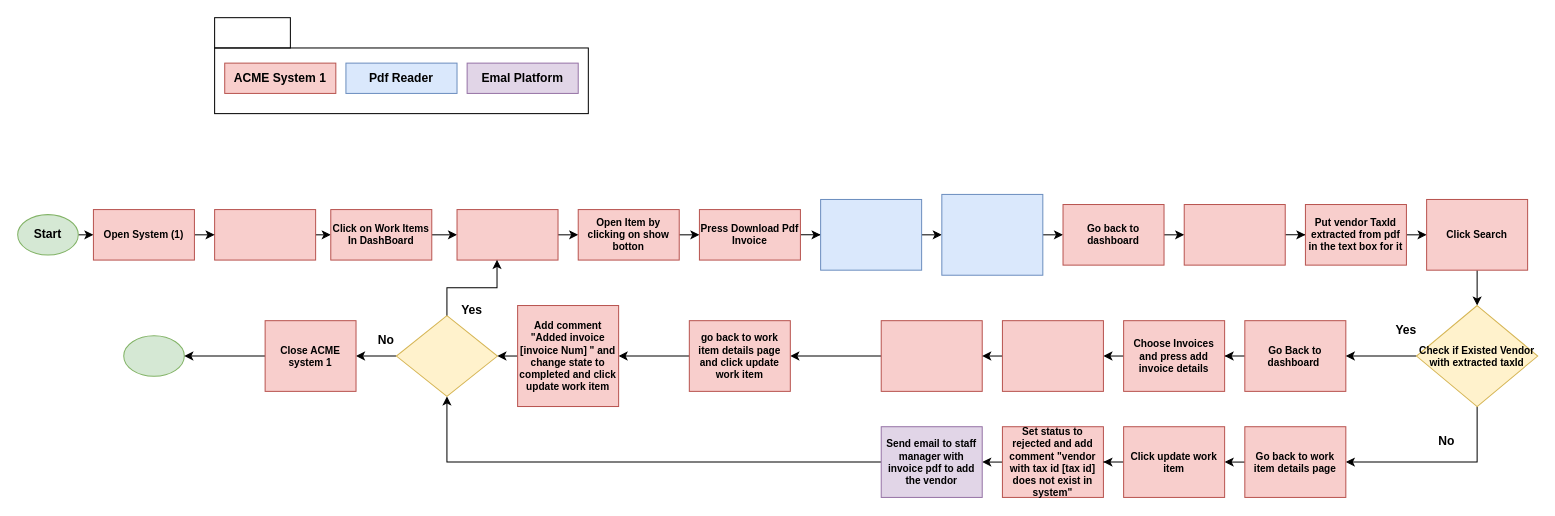
The diagram is 1555 pixels wide and 516 high, and some of its shapes have lost their labels. The centre of each missing label's shape, as x and y in pixels:
"Check for WI3 type work items exsisted ?" goes at pixel 446 355.
"Choose Vendors click search for vendors" goes at pixel 1234 234.
"Color Map" goes at pixel 252 32.
"End" goes at pixel 153 355.
"Extract All Information from Pdf and close pdf reader" goes at pixel 992 234.
"Fill All fields with the extracted data" goes at pixel 1052 355.
"Log In to System (1)" goes at pixel 265 234.
"Open File with Pdf reader app" goes at pixel 871 234.
"Press Add invoice details" goes at pixel 931 355.
"Select Item of Type WI3" goes at pixel 507 234.
